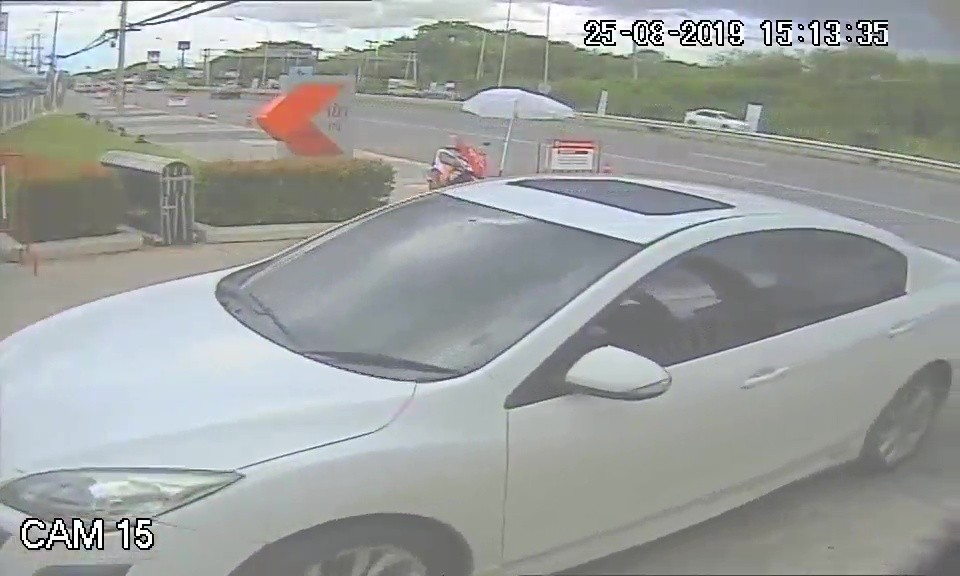sedan: (29, 181, 713, 576)
